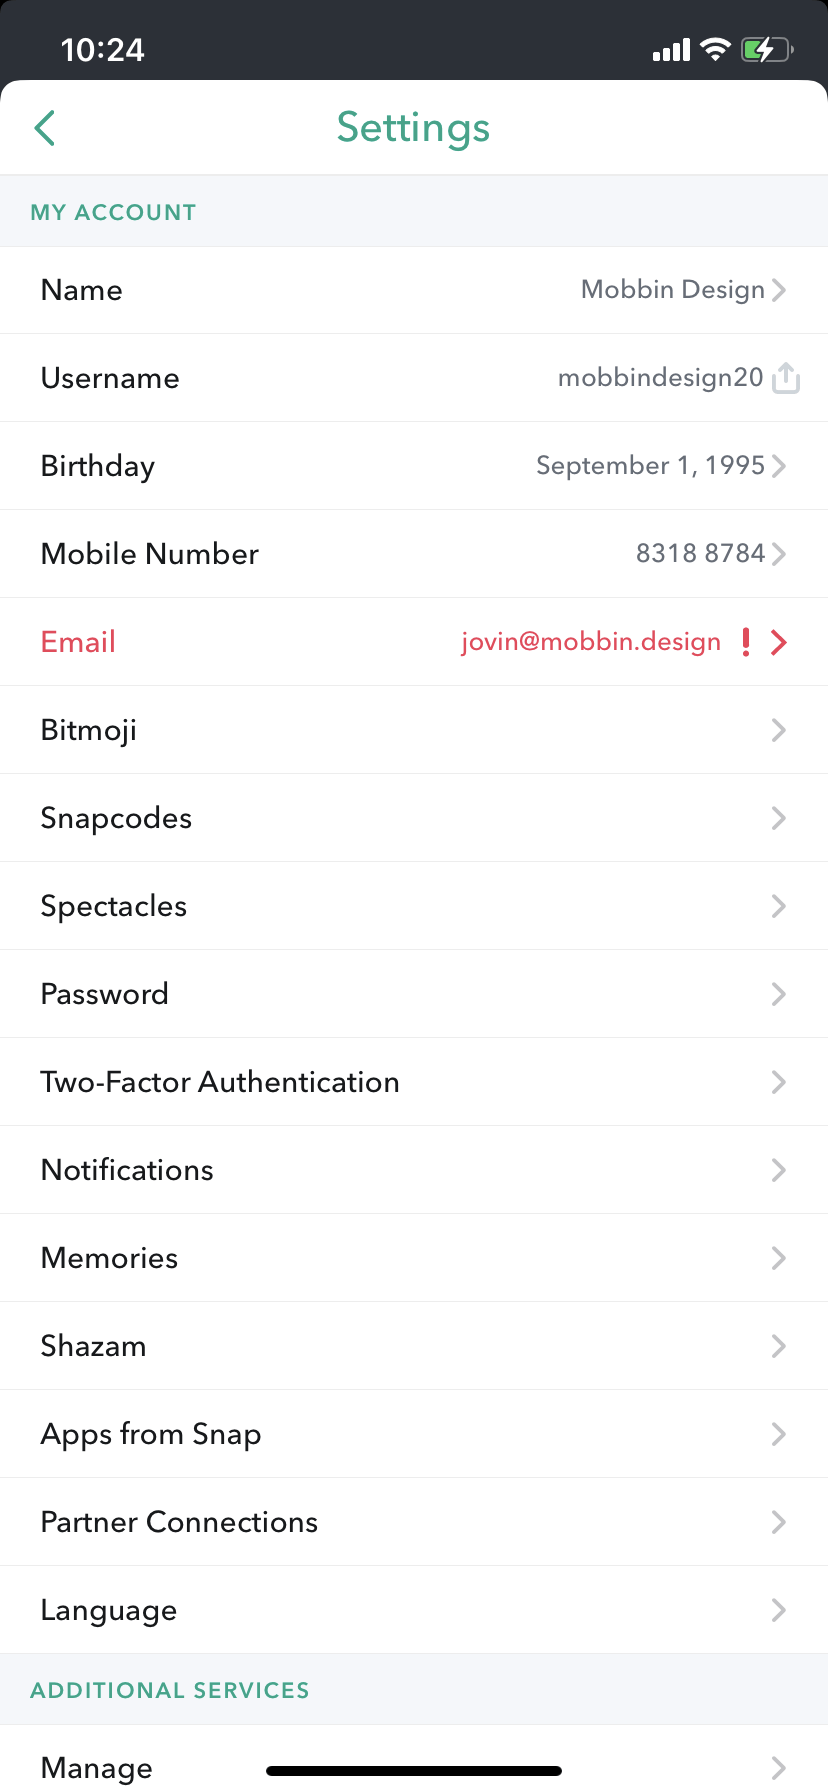Buttons: (1, 98, 90, 161), (761, 350, 812, 403)
